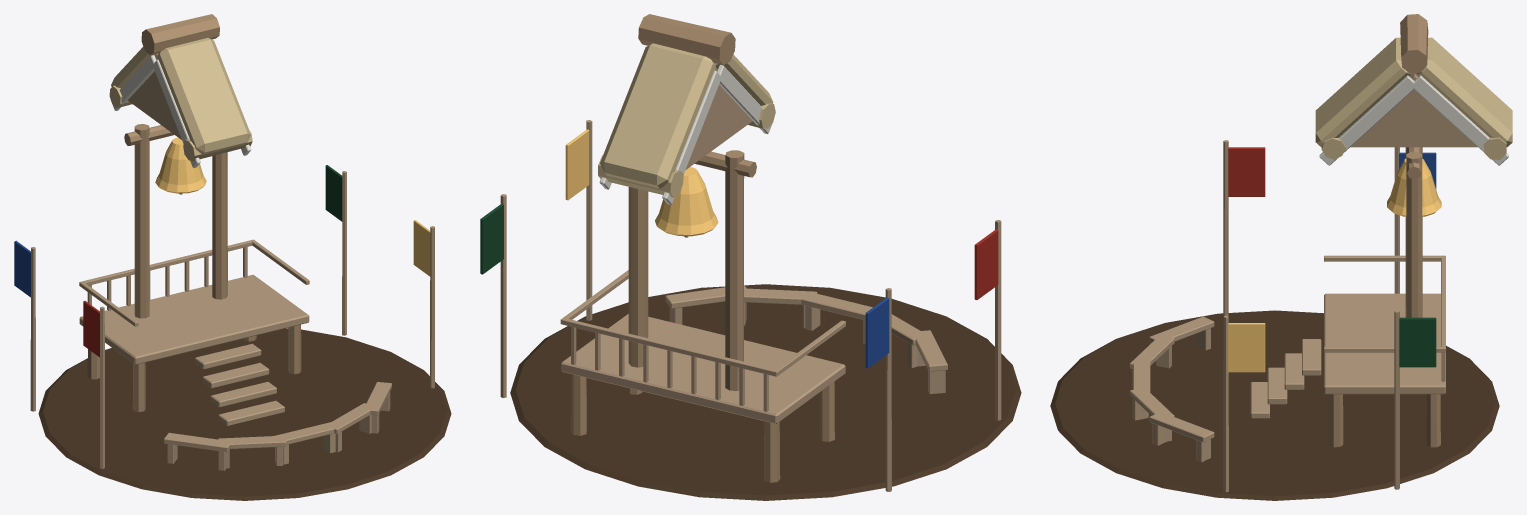
The model's file is bld_veche.glb.
The picture shows the model from 3 angles, left to right: view 1: azimuth 30°, elevation 25°; view 2: azimuth 150°, elevation 25°; view 3: azimuth 270°, elevation 25°; orthographic projection. The views are drawn at different scales.
Visible parts, largest first — view 1: veche; view 2: veche; view 3: veche.
Boxes of the visible parts, x1,y1,x2,y2 form: veche: (14,14,451,500); veche: (480,14,1021,500); veche: (1050,14,1512,500).
Bounding box in the file's own units: 1.84 × 1.69 × 1.89.
